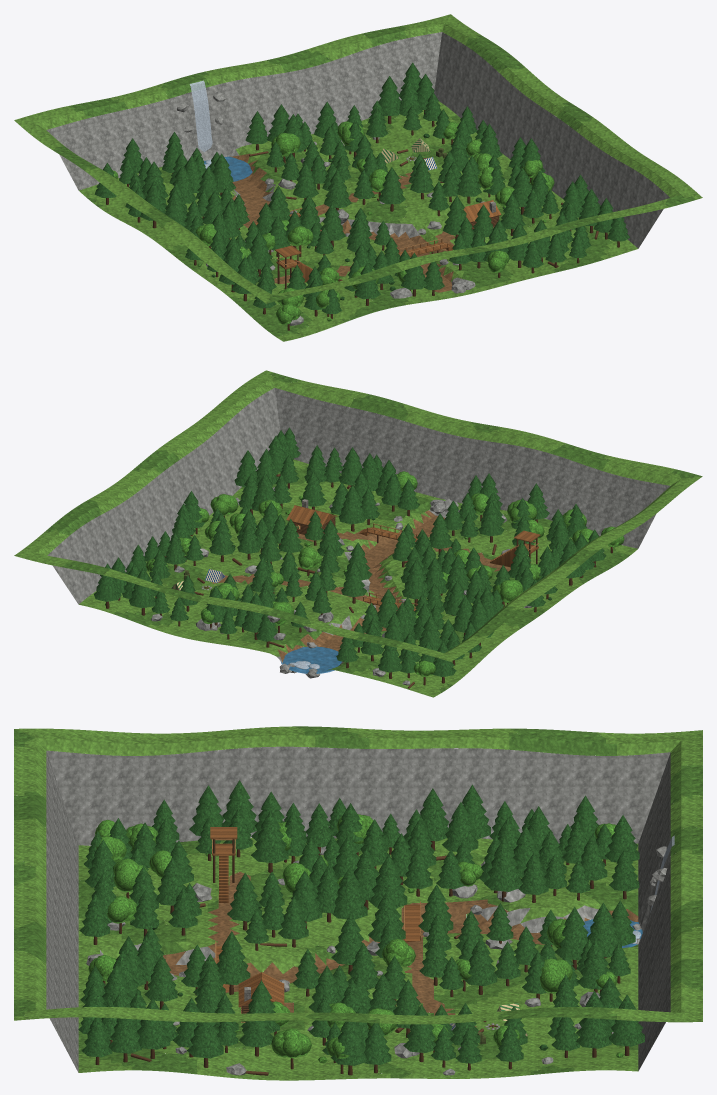
File: map_pines.glb
3 views of the same model, one above another, from view 1: azimuth 30°, elevation 25°; view 2: azimuth 150°, elevation 25°; view 3: azimuth 270°, elevation 25° (orthographic). The views are drawn at different scales.
Parts seen in each view (by area): view 1: pine, rock, grass, grassdark, leaves, dirt, bark, wood, foam; view 2: pine, rock, grass, grassdark, leaves, dirt, bark, wood, water; view 3: pine, rock, grass, grassdark, leaves, dirt, bark, wood.
Boxes of the visible parts, x1,y1,x2,y2 form: pine: (94,62,629,313); rock: (46,32,669,325); grass: (14,14,702,341); grassdark: (53,25,695,336); leaves: (112,121,554,324); dirt: (227,153,461,292); bark: (106,110,619,330); wood: (255,200,501,269); foam: (189,80,225,168); pine: (94,427,606,676); rock: (47,388,669,685); grass: (14,370,702,697); grassdark: (46,372,701,692); leaves: (105,471,624,676); dirt: (212,510,510,672); bark: (106,474,612,688); wood: (286,505,540,610); water: (280,646,341,673); pine: (78,780,644,1065); rock: (46,746,670,1075); grass: (14,726,702,1080); grassdark: (14,726,702,1078); leaves: (88,814,623,1063); dirt: (163,872,638,1026); bark: (93,839,629,1075); wood: (210,827,420,1012).
Size of what is drawn, in the model's own units: 128 by 21.58 by 128.
15 materials, 15 textured.
